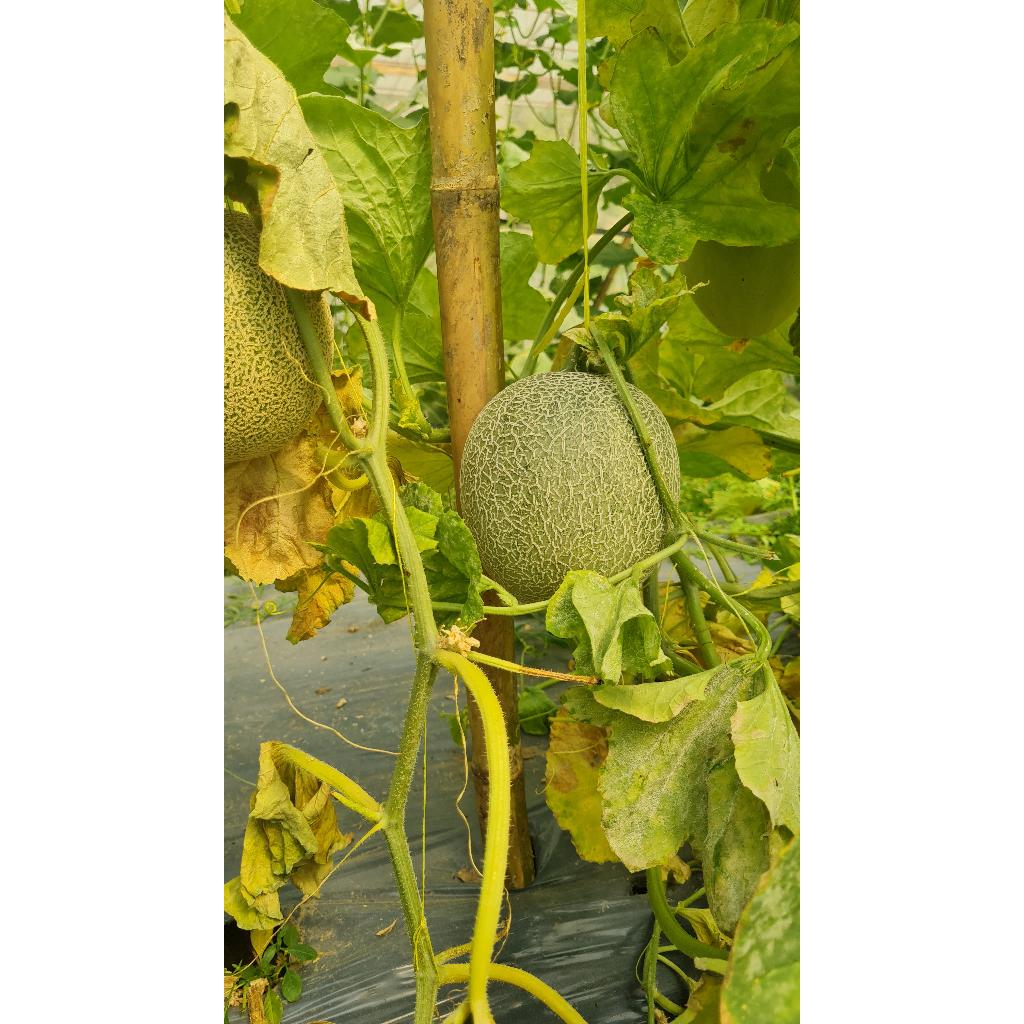melon: (460, 372, 668, 602), (630, 386, 680, 502)
